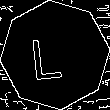L_N: (37, 29, 73, 81)
